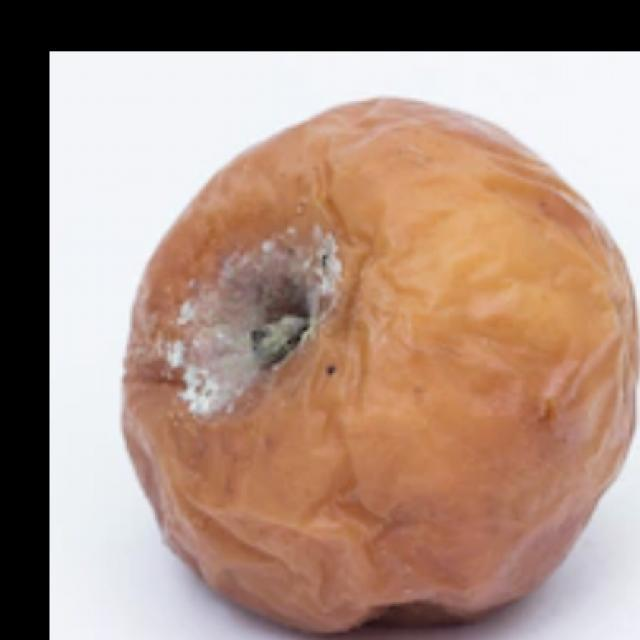Rotten: (118, 94, 640, 640)
